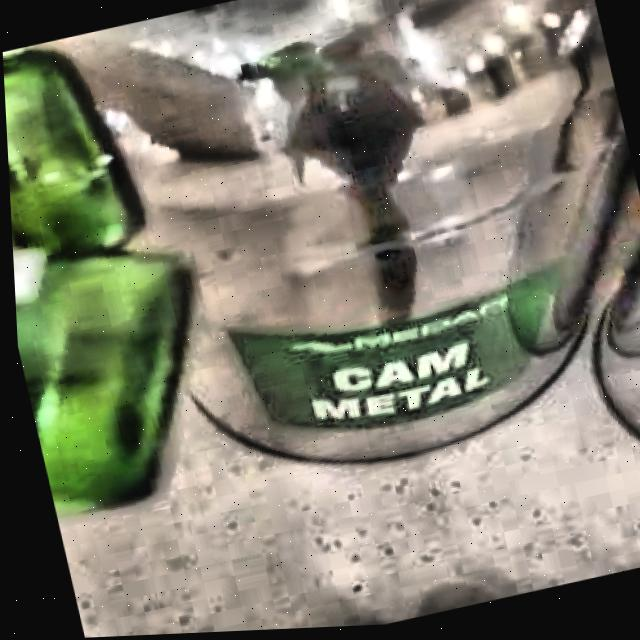glass: (2, 51, 187, 516)
